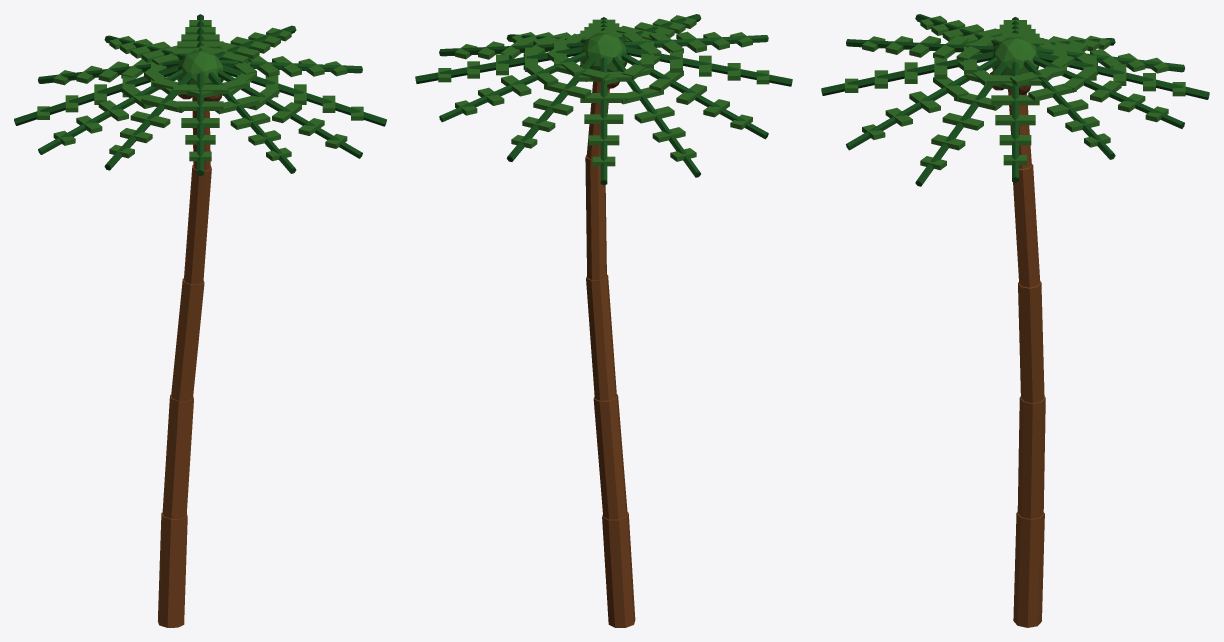
Rendered from PohonPalem.obj.
3 renders of one model, left to right at view 1: azimuth 30°, elevation 25°; view 2: azimuth 150°, elevation 25°; view 3: azimuth 270°, elevation 25°, orthographic. The views are drawn at different scales.
Parts seen in each view (by area): view 1: TRUNK_0, TRUNK_1, TRUNK_2, TRUNK_3, CROWN_CORE, FROND_STEM_11, FROND_STEM_5, FROND_STEM_10, FROND_STEM_6, FROND_STEM_9, FROND_STEM_7, FROND_STEM_0 (+2 smaller); view 2: TRUNK_1, TRUNK_0, TRUNK_2, TRUNK_3, CROWN_CORE, FROND_STEM_7, FROND_STEM_1, FROND_STEM_6, FROND_STEM_2, FROND_STEM_5, FROND_STEM_4, FROND_STEM_3 (+3 smaller); view 3: TRUNK_0, TRUNK_1, TRUNK_2, TRUNK_3, CROWN_CORE, FROND_STEM_9, FROND_STEM_3, FROND_STEM_10, FROND_STEM_2, FROND_STEM_11, FROND_STEM_1, FROND_STEM_8 (+2 smaller).
Boxes of the visible parts, left/top/right/bottom form: TRUNK_0: left=158, top=512, right=187, bottom=627; TRUNK_1: left=162, top=395, right=193, bottom=518; TRUNK_2: left=171, top=278, right=204, bottom=400; TRUNK_3: left=184, top=165, right=211, bottom=284; CROWN_CORE: left=177, top=50, right=223, bottom=84; FROND_STEM_11: left=222, top=65, right=386, bottom=126; FROND_STEM_5: left=14, top=65, right=178, bottom=125; FROND_STEM_10: left=217, top=69, right=362, bottom=158; FROND_STEM_6: left=38, top=69, right=183, bottom=154; FROND_STEM_9: left=208, top=72, right=296, bottom=173; FROND_STEM_7: left=104, top=72, right=192, bottom=170; FROND_STEM_0: left=220, top=60, right=362, bottom=73; TRUNK_1: left=593, top=394, right=627, bottom=519; TRUNK_0: left=602, top=512, right=635, bottom=627; TRUNK_2: left=586, top=274, right=616, bottom=400; TRUNK_3: left=585, top=155, right=606, bottom=280; CROWN_CORE: left=580, top=32, right=627, bottom=71; FROND_STEM_7: left=625, top=47, right=792, bottom=86; FROND_STEM_1: left=415, top=46, right=582, bottom=83; FROND_STEM_6: left=621, top=52, right=768, bottom=139; FROND_STEM_2: left=439, top=51, right=586, bottom=122; FROND_STEM_5: left=612, top=56, right=700, bottom=177; FROND_STEM_4: left=600, top=57, right=607, bottom=185; FROND_STEM_3: left=506, top=55, right=595, bottom=161; TRUNK_0: left=1013, top=512, right=1044, bottom=627; TRUNK_1: left=1017, top=396, right=1045, bottom=519; TRUNK_2: left=1018, top=281, right=1044, bottom=403; TRUNK_3: left=1013, top=164, right=1040, bottom=287; CROWN_CORE: left=992, top=37, right=1039, bottom=75; FROND_STEM_9: left=821, top=51, right=993, bottom=95; FROND_STEM_3: left=1037, top=51, right=1209, bottom=99; FROND_STEM_10: left=846, top=57, right=997, bottom=150; FROND_STEM_2: left=1033, top=56, right=1184, bottom=128; FROND_STEM_11: left=915, top=61, right=1006, bottom=186; FROND_STEM_1: left=1023, top=60, right=1115, bottom=159; FROND_STEM_8: left=846, top=39, right=994, bottom=53.
Bounding box in the file's own units: 3.82 × 6.46 × 3.82.
